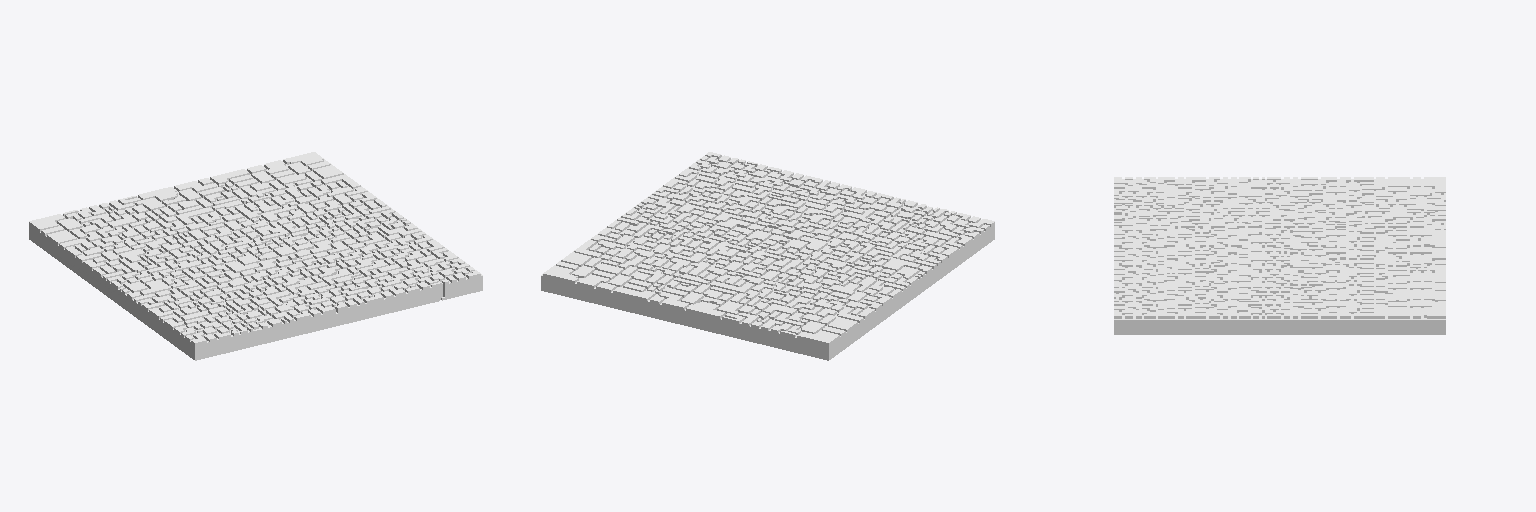
The model's file is kostka.obj.
The picture shows the model from 3 angles: view 1: azimuth 30°, elevation 25°; view 2: azimuth 150°, elevation 25°; view 3: azimuth 270°, elevation 25°; orthographic projection.
Visible parts, largest first — view 1: object 1; view 2: object 1; view 3: object 1.
Part boxes in pixels (x1,y1,x2,y2): object 1: (29,152,482,360); object 1: (541,152,994,360); object 1: (1114,177,1445,334).
Size of the model in its own units: 11.9 by 0.7 by 11.9.